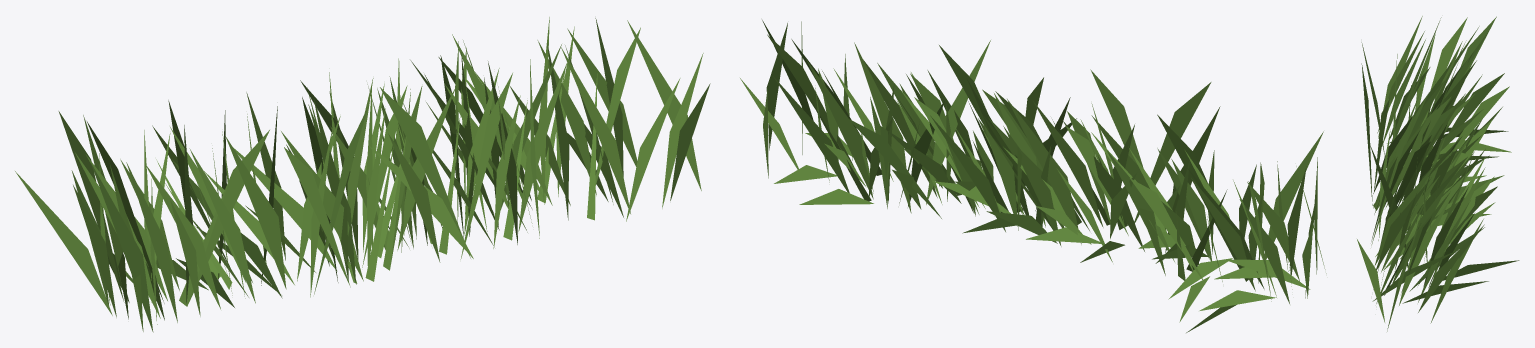
File: grass_five.fbx
3 renders of one model, left to right at view 1: azimuth 30°, elevation 25°; view 2: azimuth 150°, elevation 25°; view 3: azimuth 270°, elevation 25°, orthographic. The views are drawn at different scales.
Visible parts, largest first — view 1: grass_five; view 2: grass_five; view 3: grass_five.
Boxes of the visible parts, x1,y1,x2,y2 form: grass_five: [15, 17, 710, 332]; grass_five: [740, 20, 1326, 332]; grass_five: [1357, 16, 1519, 331].
Bounding box in the file's own units: 11.37 × 2.94 × 3.57.
